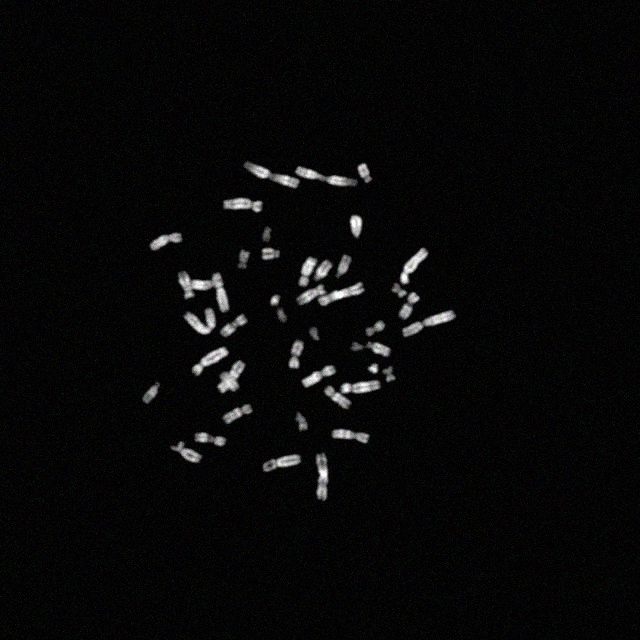chromosome: (403, 310, 455, 338), (244, 162, 298, 188), (295, 167, 357, 187), (319, 282, 365, 306), (193, 346, 229, 376), (400, 248, 428, 284), (218, 361, 245, 394), (184, 308, 216, 334), (302, 366, 336, 388), (170, 441, 202, 463), (296, 284, 326, 306), (314, 454, 328, 501), (212, 273, 228, 313), (150, 232, 182, 252), (262, 455, 302, 471), (324, 386, 352, 408), (220, 314, 248, 336), (399, 292, 419, 320), (224, 404, 252, 424), (299, 256, 317, 286), (224, 198, 262, 212), (332, 429, 368, 443), (341, 381, 381, 393), (178, 271, 194, 299), (194, 432, 226, 446), (289, 340, 303, 370), (142, 382, 160, 404), (220, 372, 238, 392), (316, 260, 332, 282), (337, 254, 351, 278), (368, 342, 390, 356), (192, 280, 222, 290), (350, 215, 362, 239), (366, 320, 384, 336), (358, 164, 372, 182), (238, 250, 250, 270), (295, 412, 307, 431), (262, 247, 280, 259), (392, 283, 406, 297), (384, 366, 396, 382), (262, 227, 272, 243), (277, 309, 287, 323), (309, 328, 319, 340), (270, 294, 280, 306), (352, 342, 362, 352), (368, 364, 378, 374)
